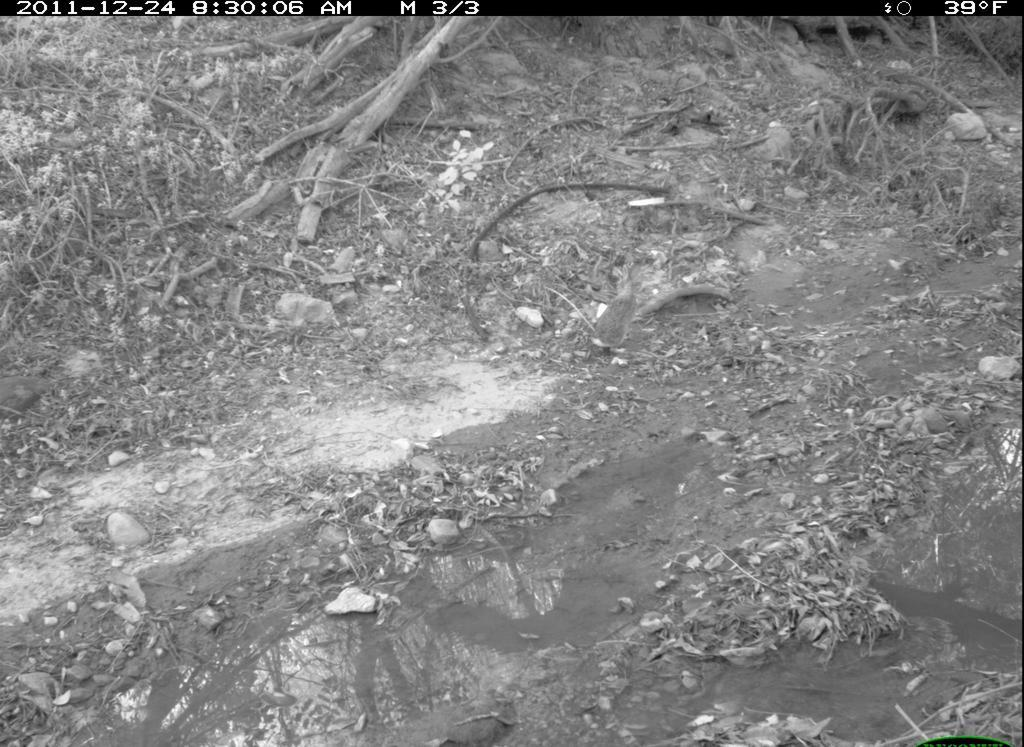rabbit: (582, 259, 653, 359)
